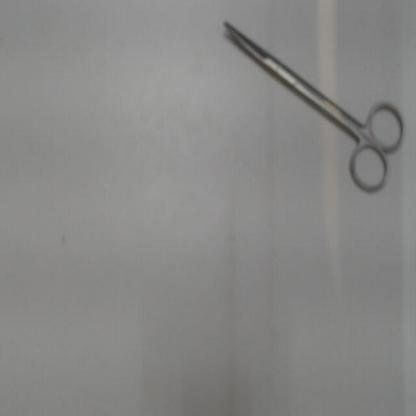Curved Mayo Scissors: (216, 12, 413, 200)
